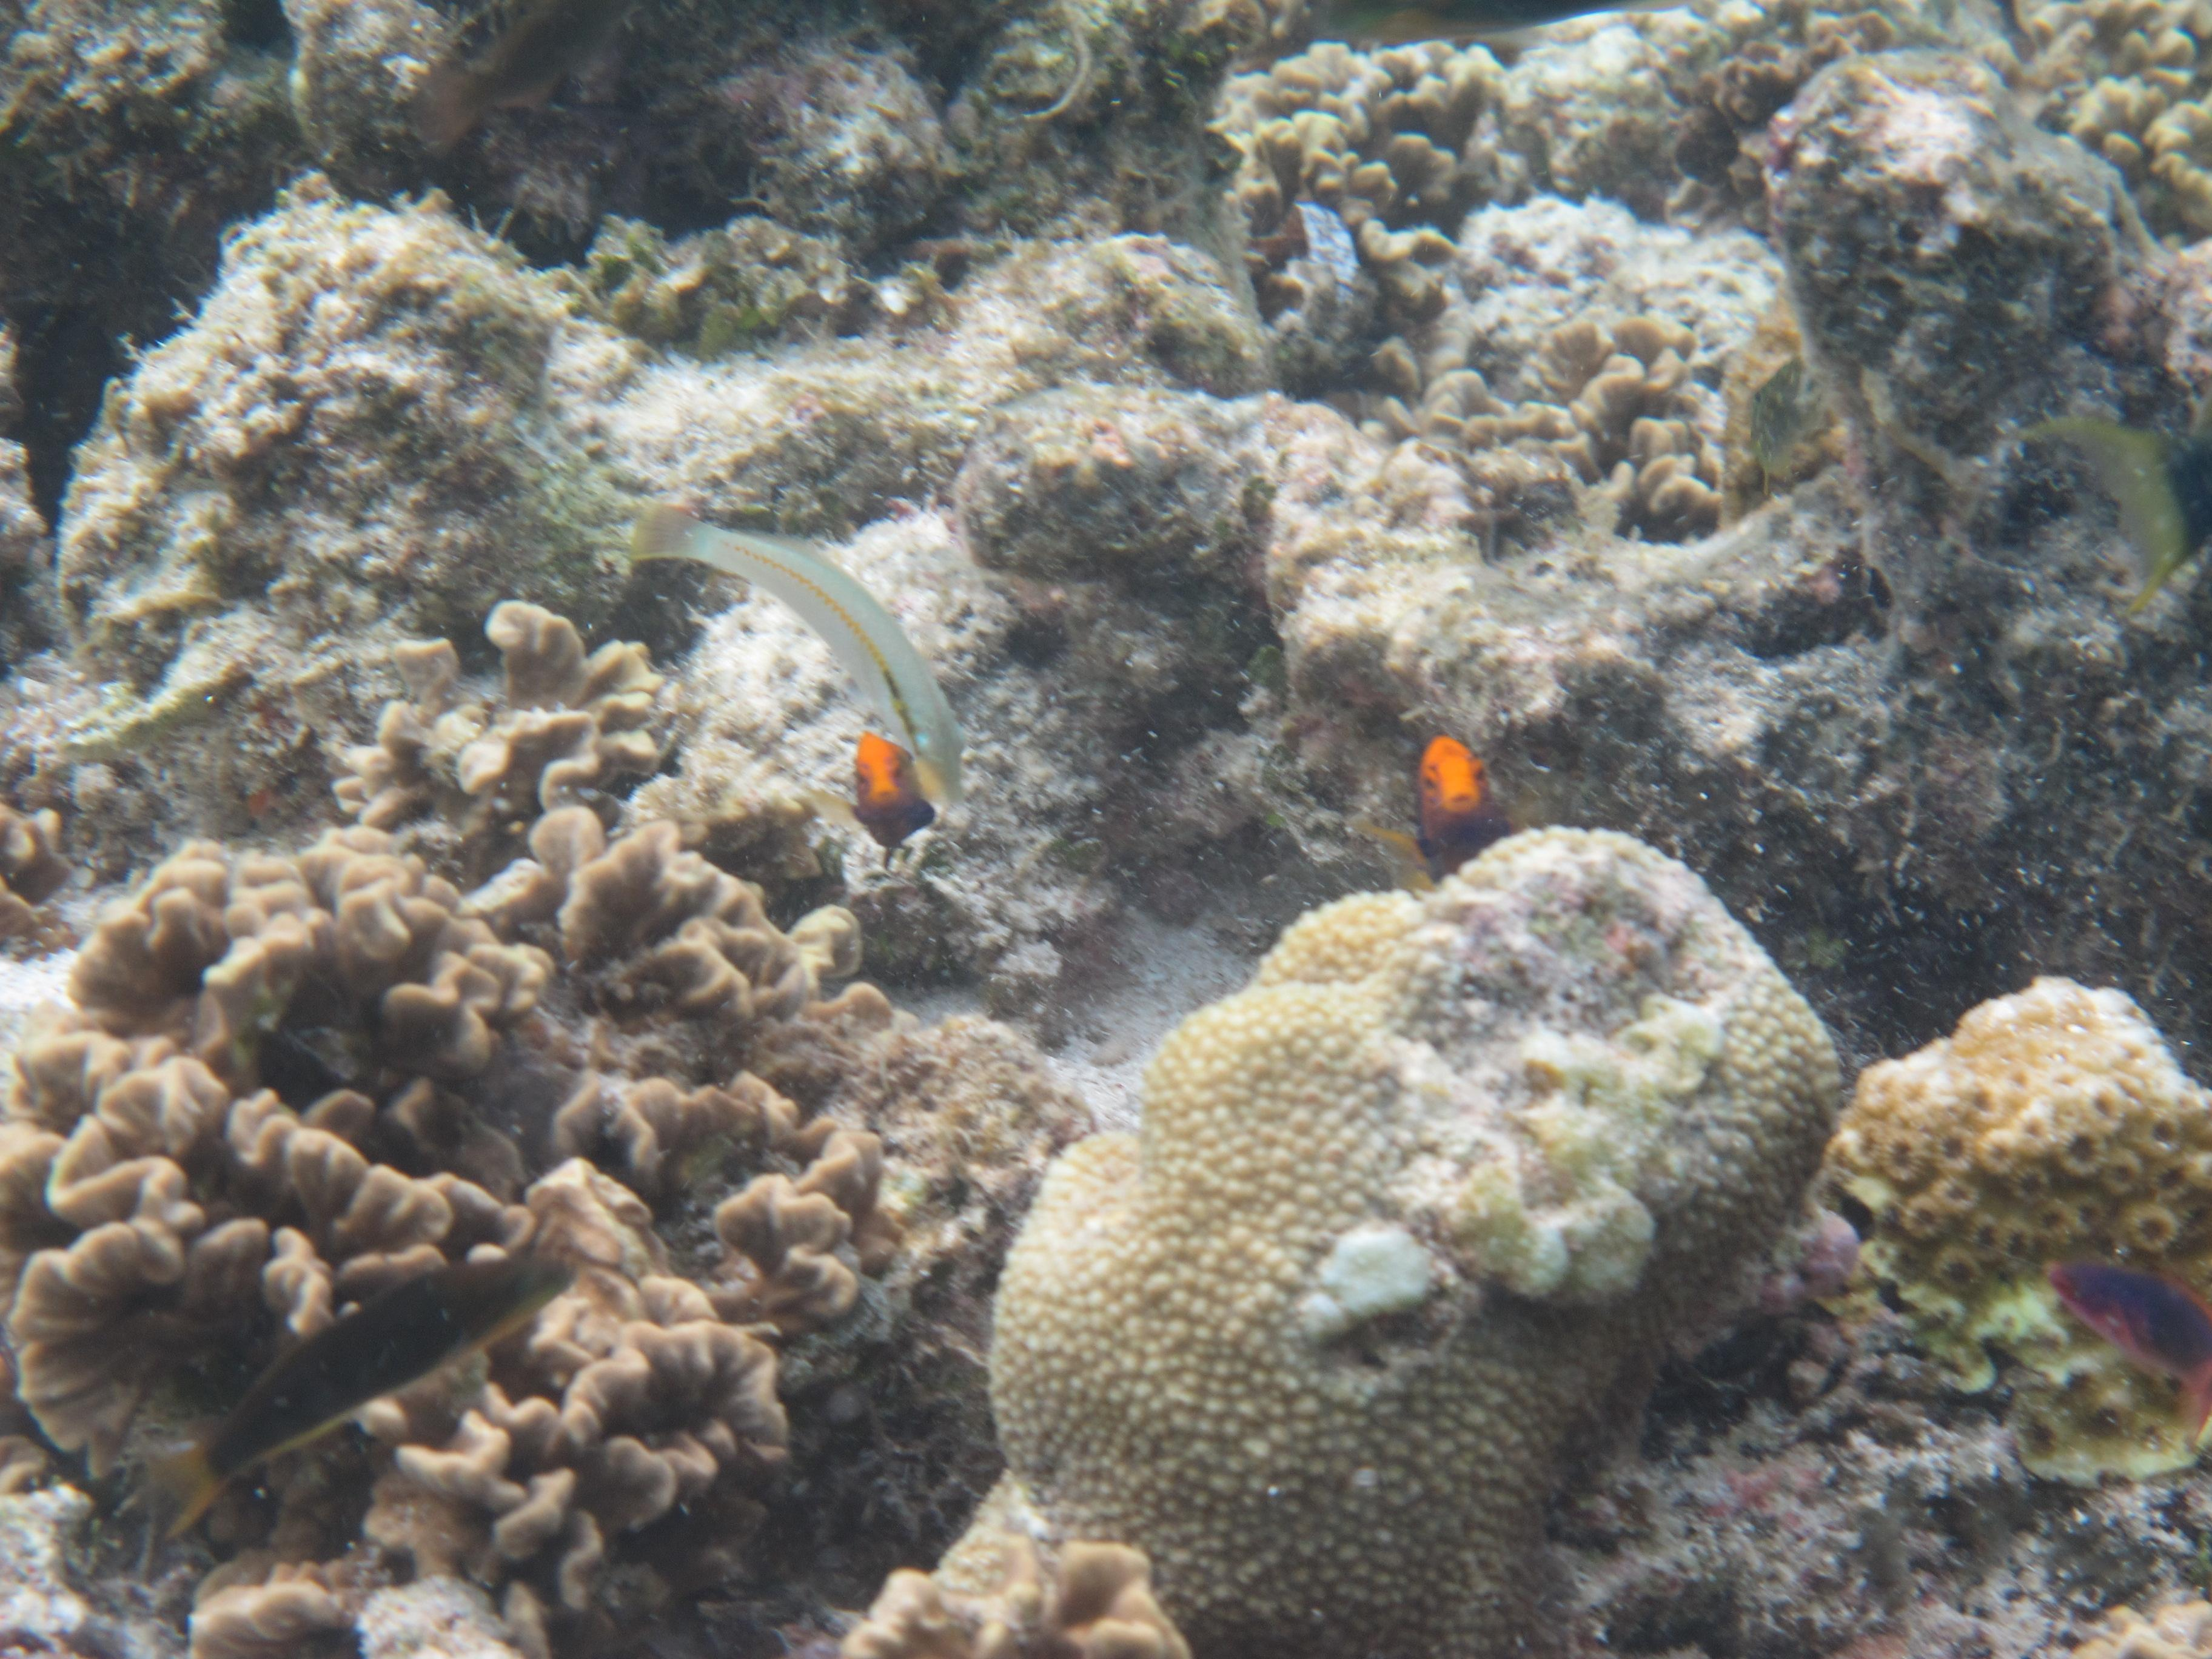Fish: (613, 467, 995, 875)
